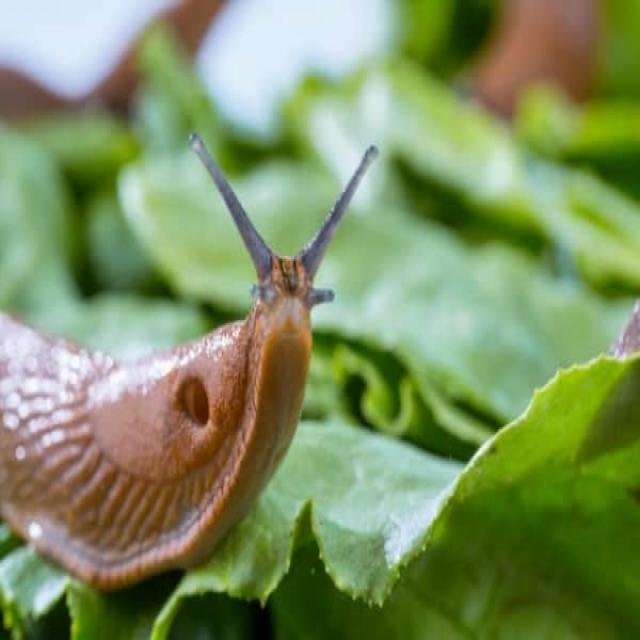slug: (0, 125, 388, 597)
